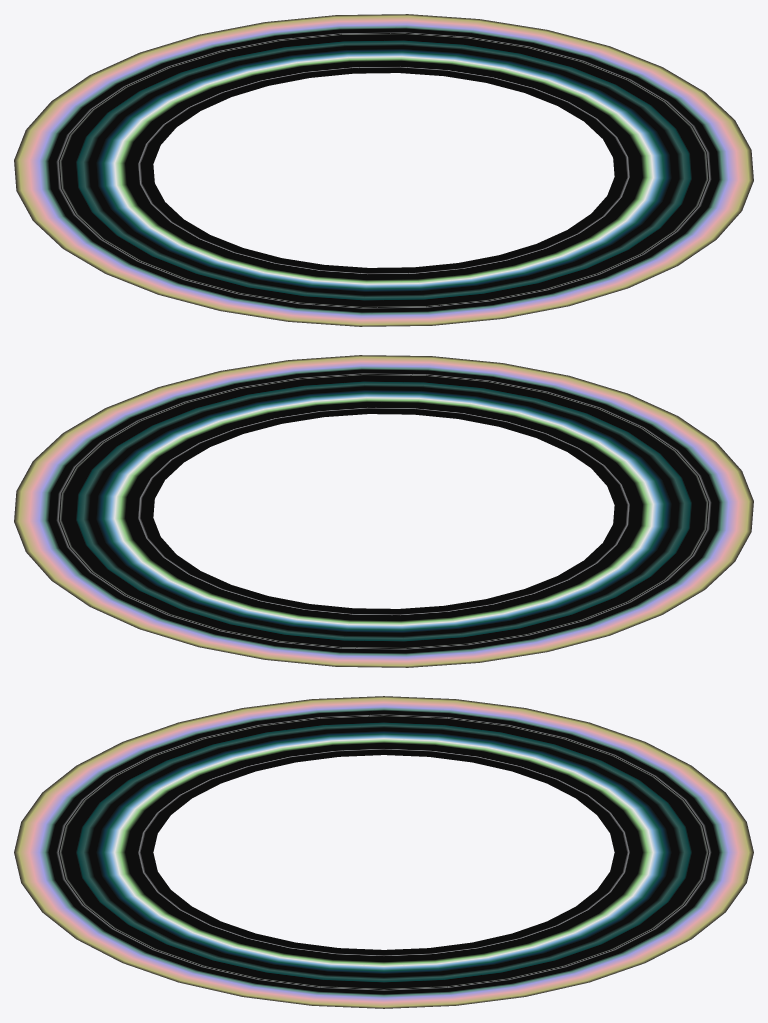
File: UranusRing.obj
3 views of the same model, one above another, from view 1: azimuth 30°, elevation 25°; view 2: azimuth 150°, elevation 25°; view 3: azimuth 270°, elevation 25° (orthographic).
Visible parts, largest first — view 1: Circle_Circle.001; view 2: Circle_Circle.001; view 3: Circle_Circle.001.
Boxes of the visible parts, box(x1,y1,x2,y2) form: Circle_Circle.001: box(14, 14, 753, 326); Circle_Circle.001: box(14, 355, 753, 667); Circle_Circle.001: box(14, 696, 753, 1008).
Size of the model in its own units: 64 by 0 by 64.
Materials: 1 (1 with a texture image).
